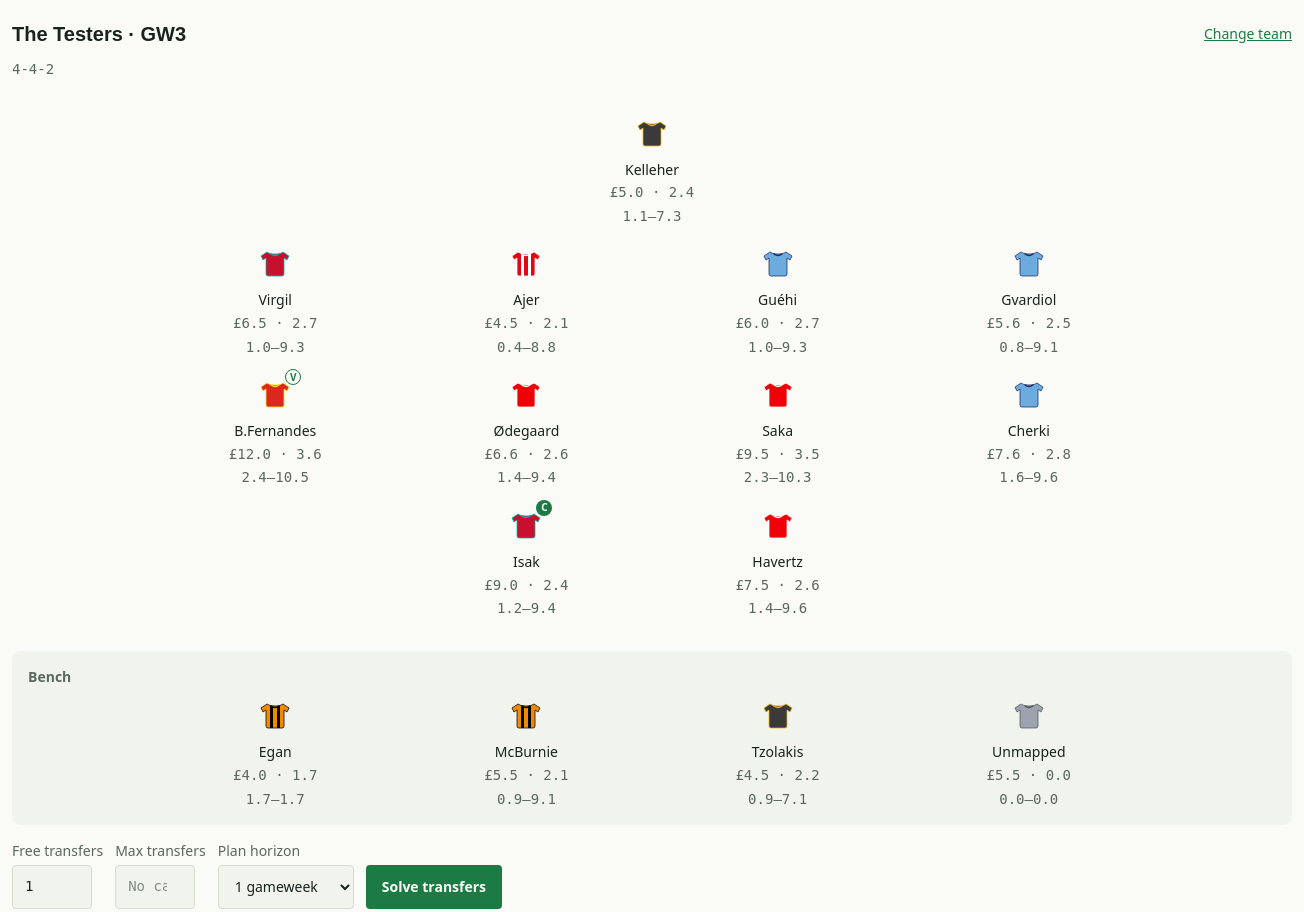
Scenario: SquadTab lock/exclude marks (03-04 Task 1) › locks a player through the action menu, rendering the Locked badge on that card and no other
The image size is (1304, 912).
Expected: the heading "The Testers · GW3" is shown, [12, 22, 186, 46]
Click the button named "Virgil actions".
click(275, 264)  # box [253, 242, 297, 286]
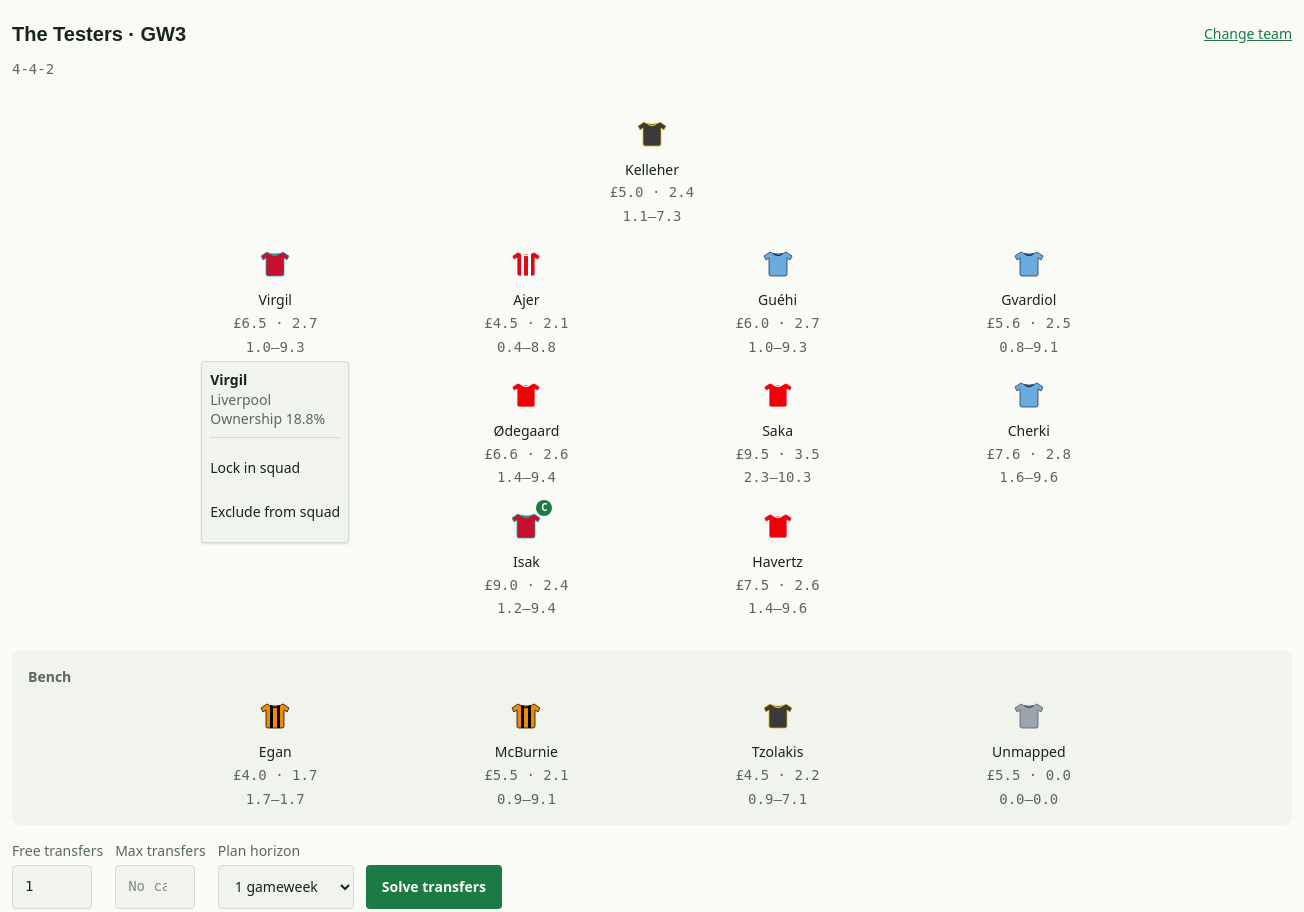
Click the menu item "Lock in squad".
click(275, 468)  # box [210, 446, 340, 490]
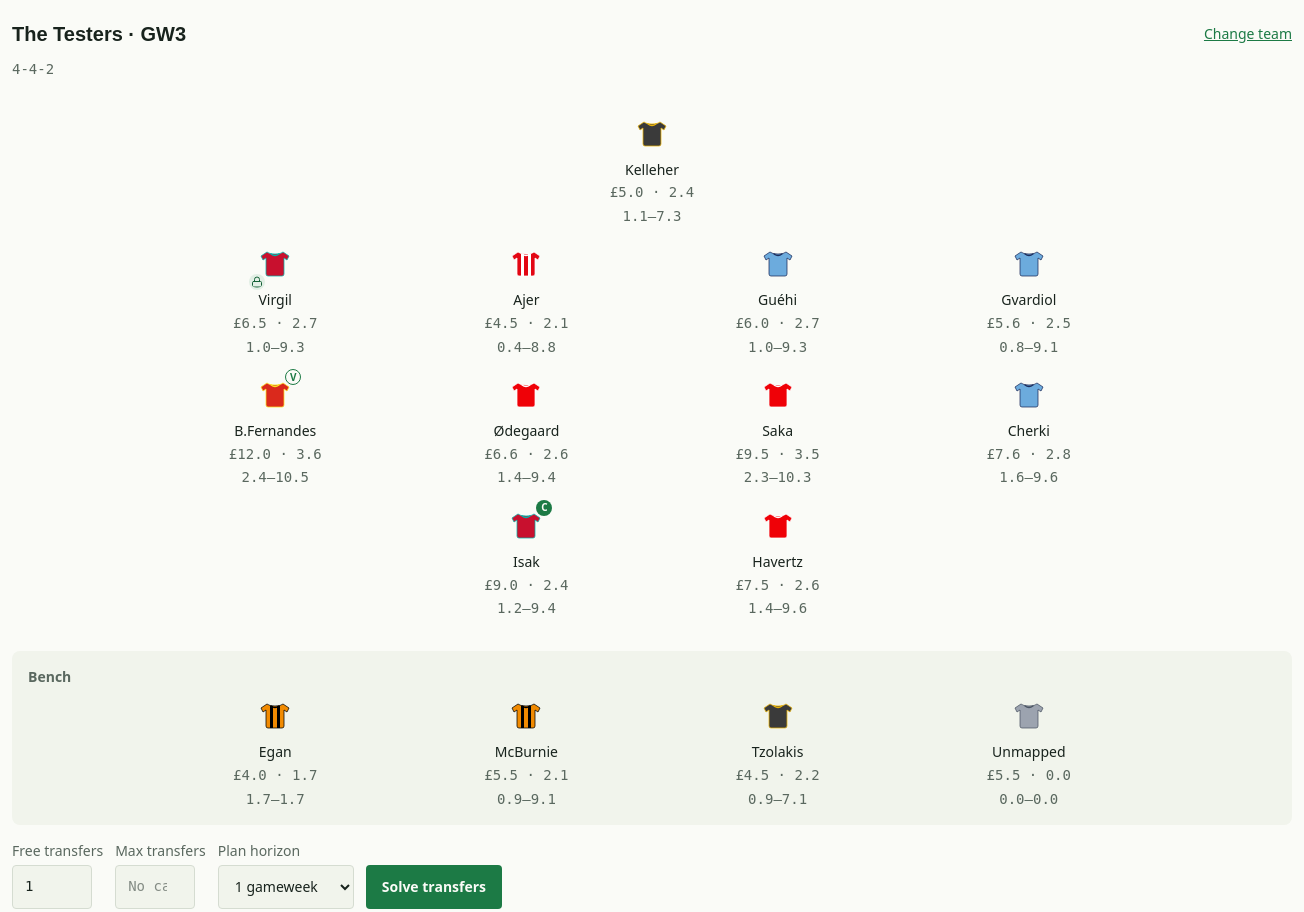
Now the number of icons named "Locked — always included in solve" is 1, box [249, 274, 265, 290]
